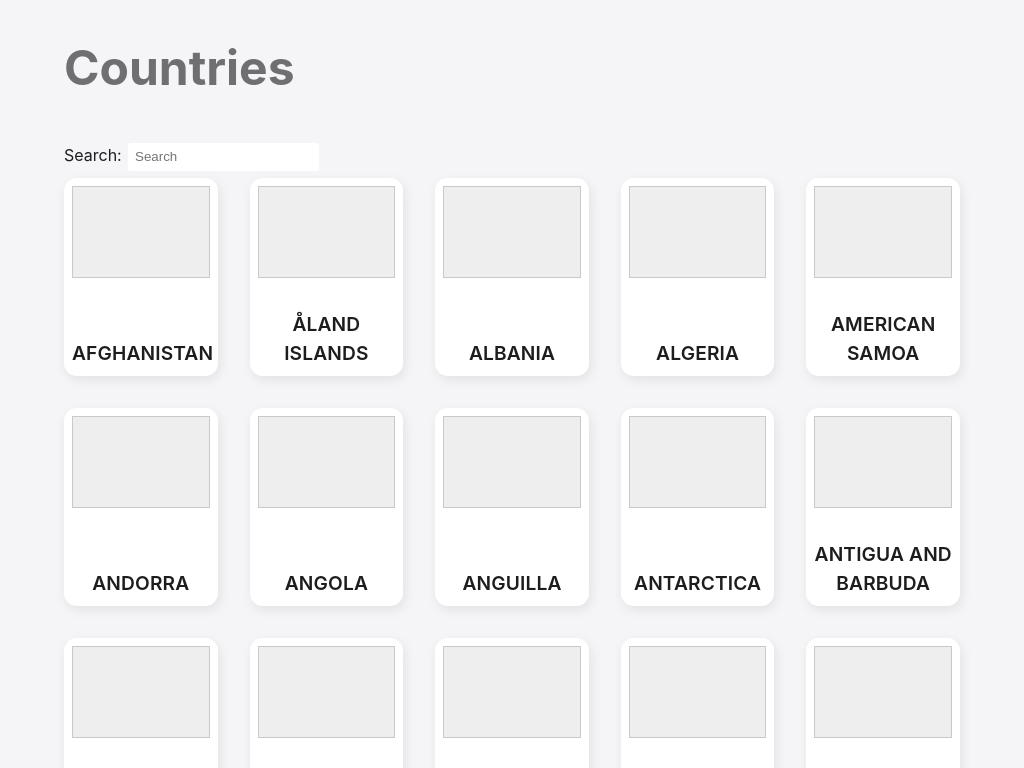
it: Countries page › GIVEN the list of countries WHEN user search THEN the list is filtered
This screenshot has width=1024, height=768.
Type "spain" into the search field. click: (224, 157)
box: x1=128 y1=143 x2=319 y2=171
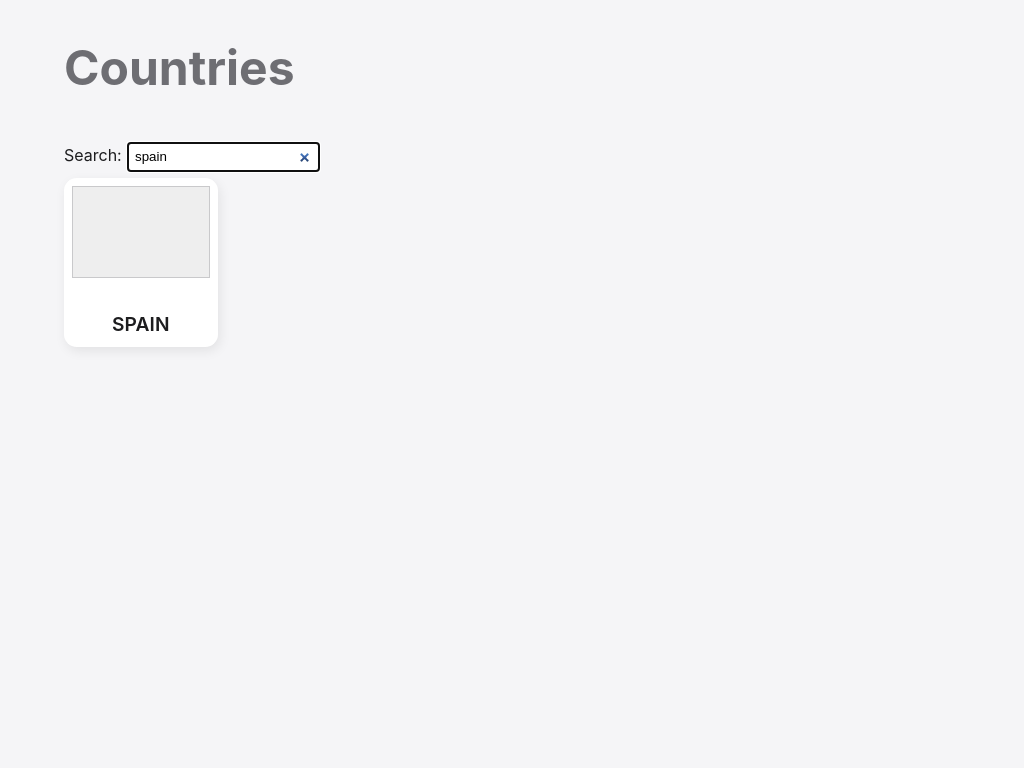
Check: the text "Spain" is shown, box x1=112 y1=312 x2=170 y2=336
Check: the link "Afghanistan" is gone
